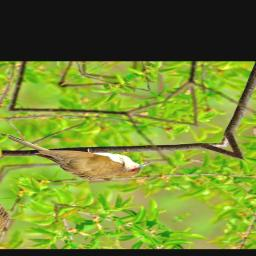Cuckoo: (0, 100, 156, 200)
